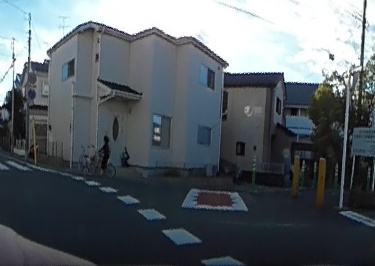person: (95, 131, 110, 173)
